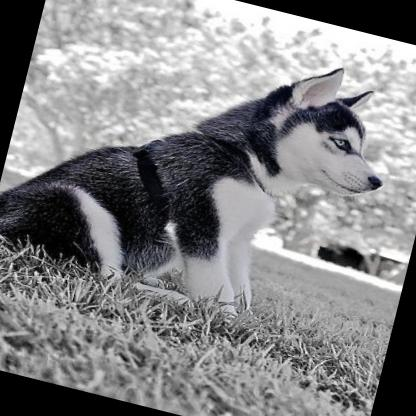Siberian_husky: (0, 0, 404, 350)
